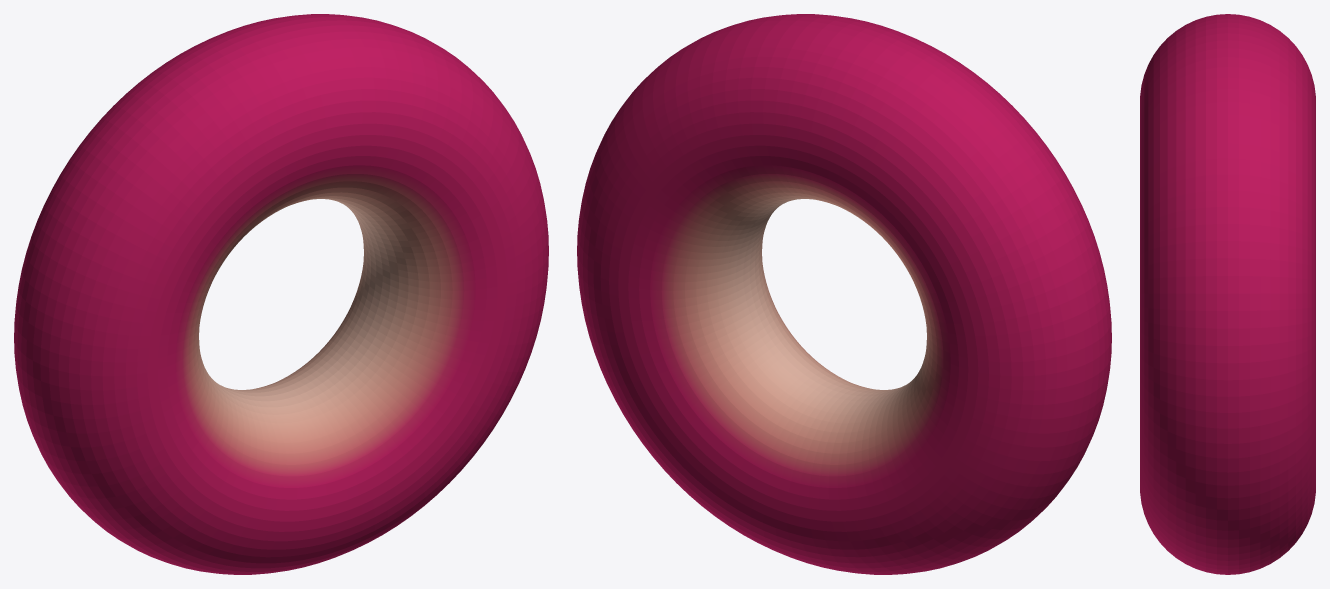
3 renders of one model, left to right at view 1: azimuth 30°, elevation 25°; view 2: azimuth 150°, elevation 25°; view 3: azimuth 270°, elevation 25°, orthographic. The views are drawn at different scales.
Parts seen in each view (by area): view 1: world; view 2: world; view 3: world.
Boxes of the visible parts, left/top/right/bottom form: world: left=14, top=14, right=548, bottom=574; world: left=577, top=14, right=1111, bottom=574; world: left=1140, top=14, right=1315, bottom=574.
Size of the model in its own units: 30.13 by 30.13 by 9.45.
